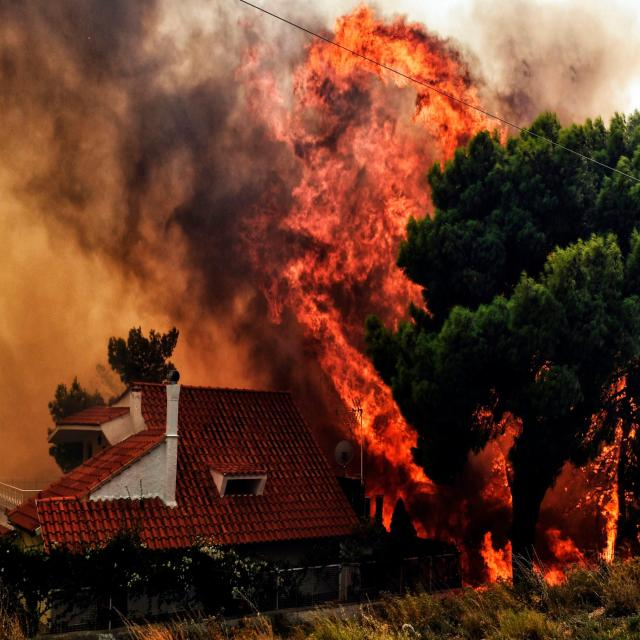fire: (295, 170, 406, 450), (305, 13, 480, 147), (480, 532, 518, 590), (596, 482, 618, 566)
smoke: (1, 0, 229, 266)
